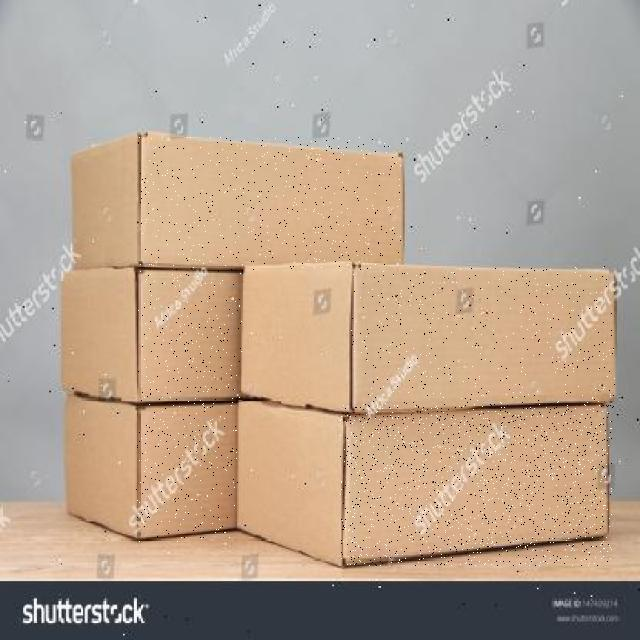BoxFace: (340, 404, 612, 566), (350, 266, 616, 408), (138, 137, 402, 271), (136, 400, 238, 542), (138, 268, 242, 402)
